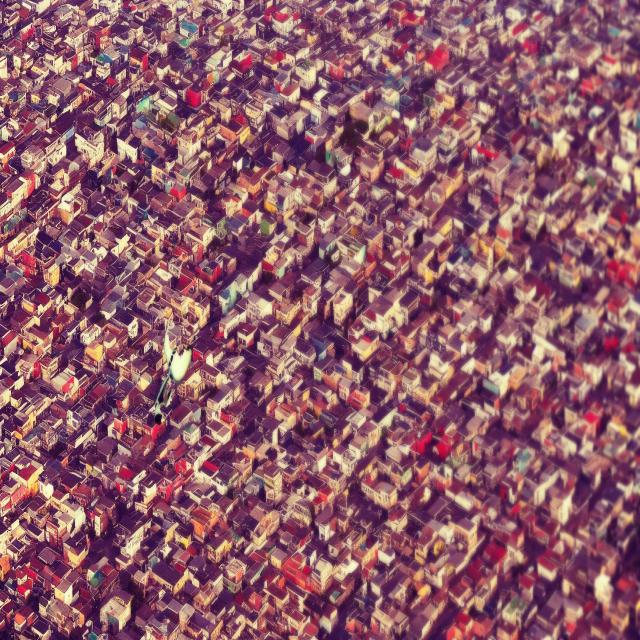airplane: (154, 328, 192, 403)
